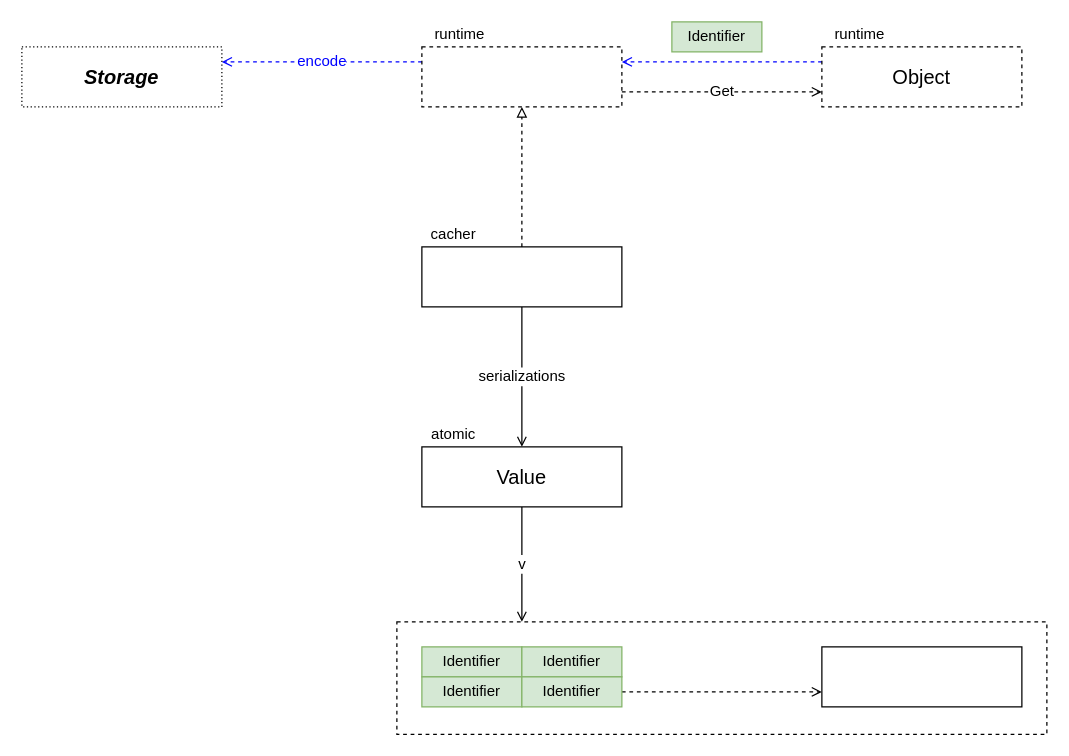
This 1069x756 diagram has some shape labels left out. The shapes that lost their labels are listed below. From the top down, each one's centre as x and y in pixels, then its label:
(521,76): CacheableObject
(521,276): cachingObject
(921,676): []byte
